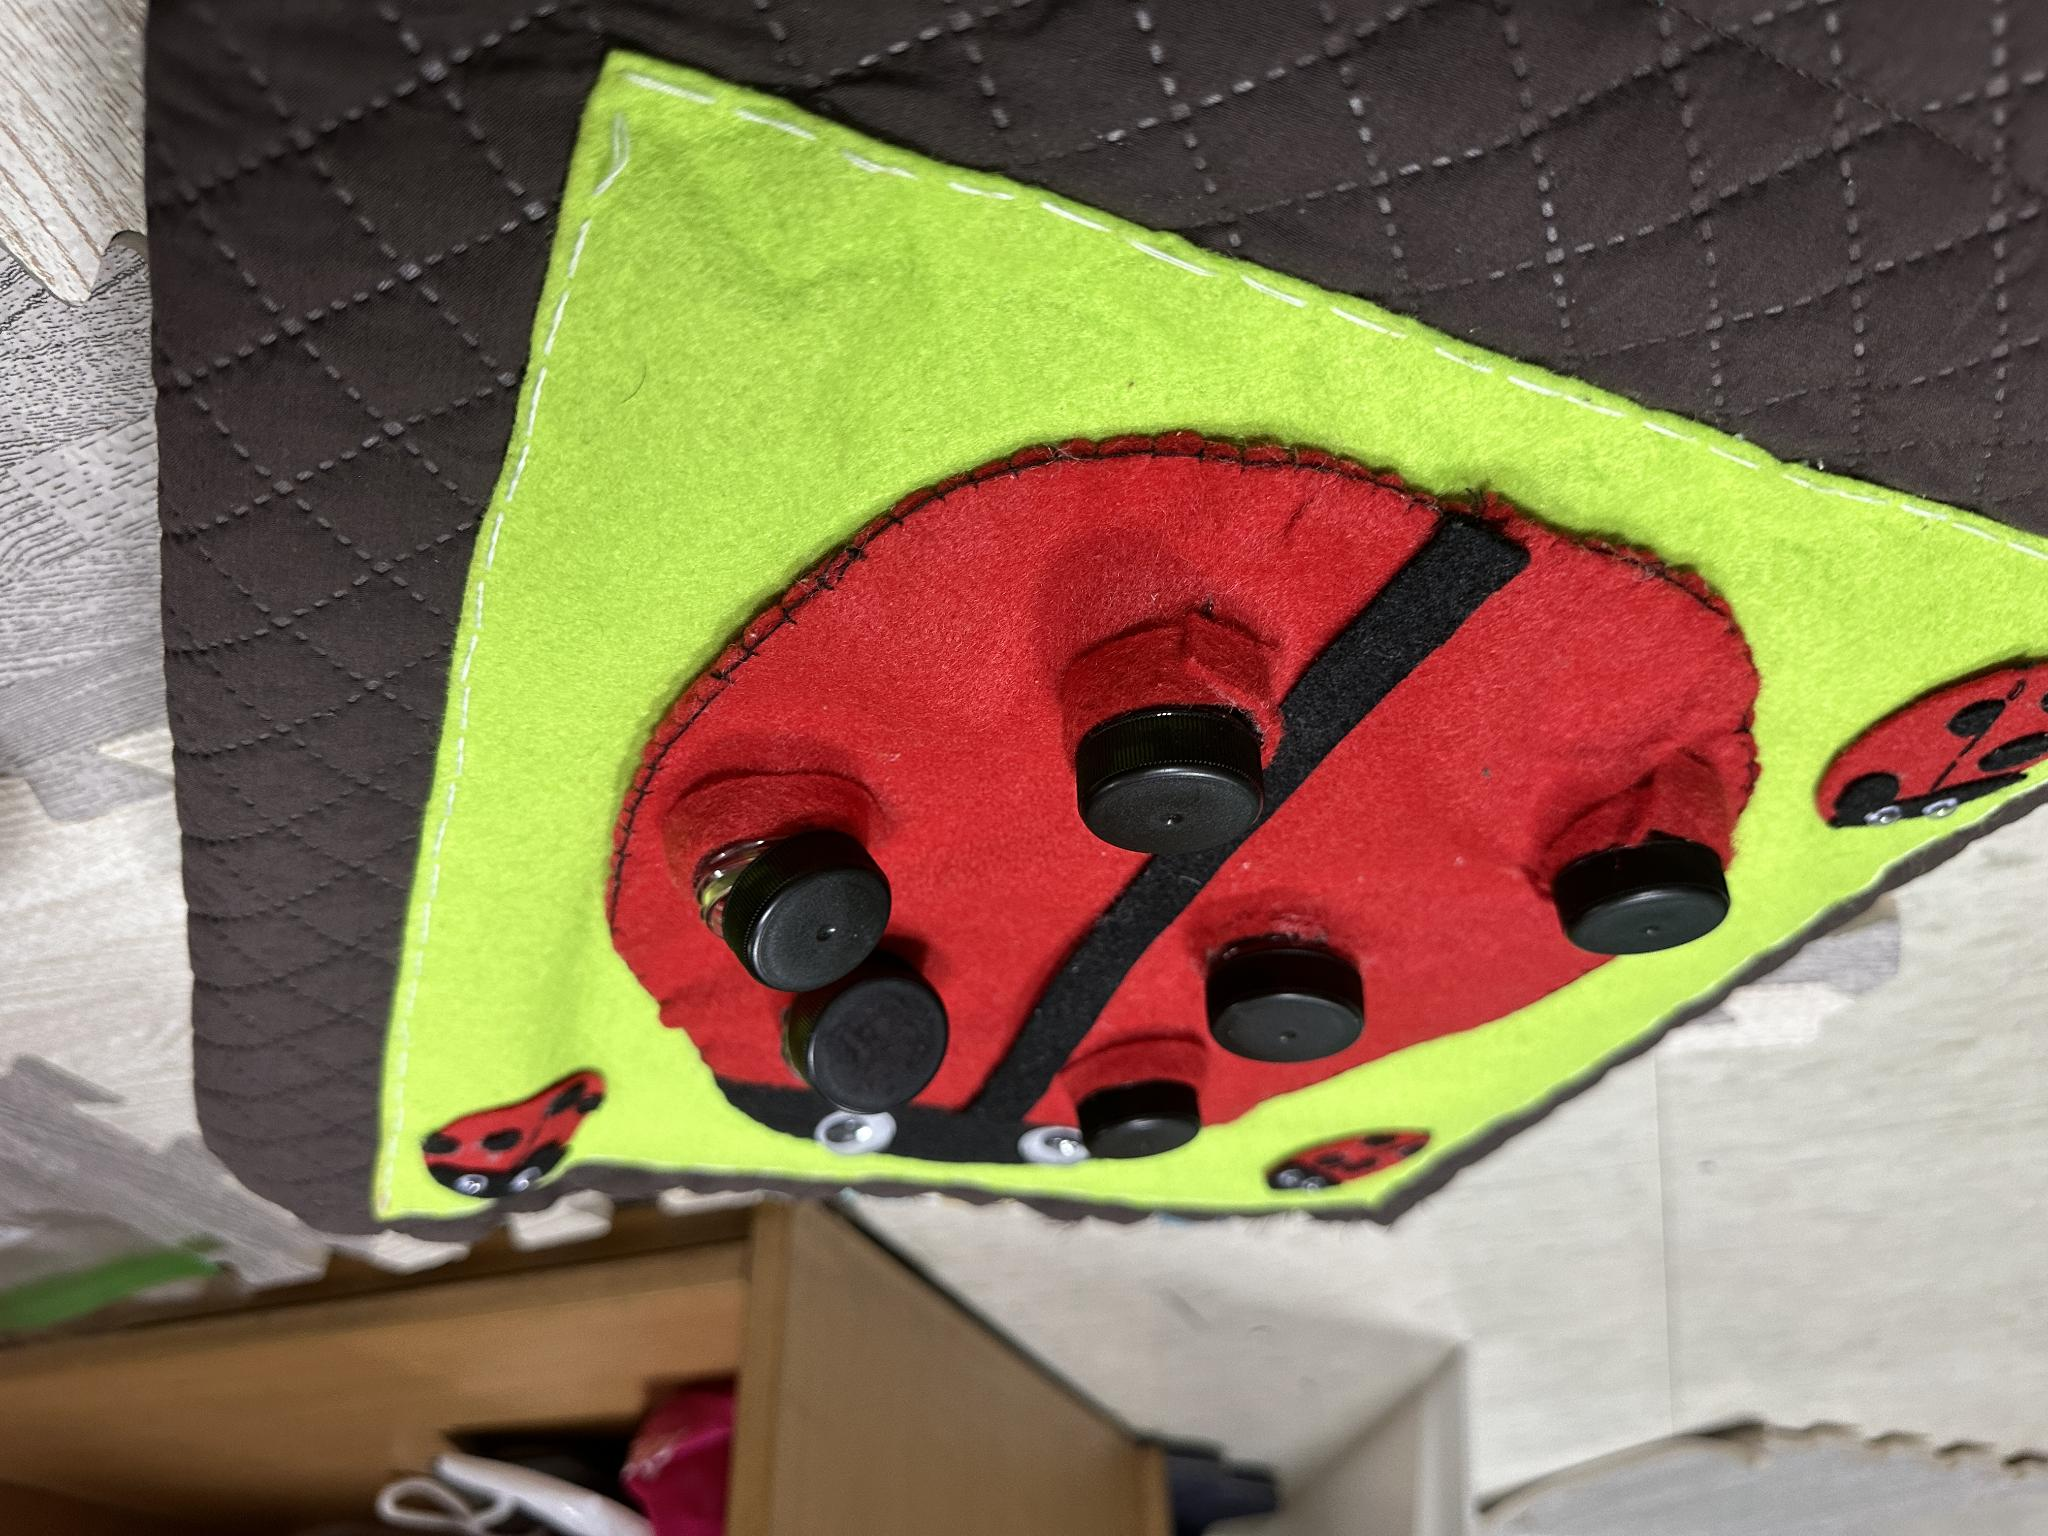cap_ng: (655, 747, 910, 997), (772, 949, 964, 1139)
cap_ok: (1037, 611, 1287, 865), (1511, 739, 1761, 979), (1184, 892, 1405, 1073), (1043, 1031, 1221, 1175)
